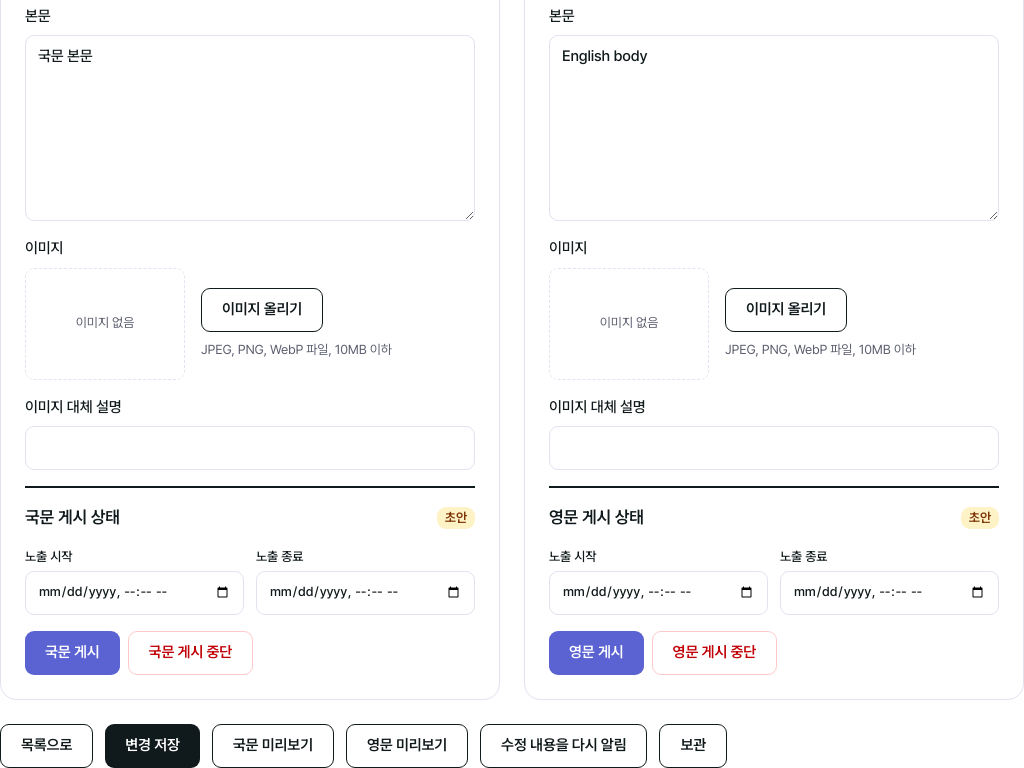
it: PopupNoticeForm 저장 및 게시 검증 › 미리보기는 서버가 그린 본문 HTML을 공개 팝업에 넣는다
(page scrolled)
Click the button "국문 미리보기" at (273, 746), box [212, 724, 334, 767]
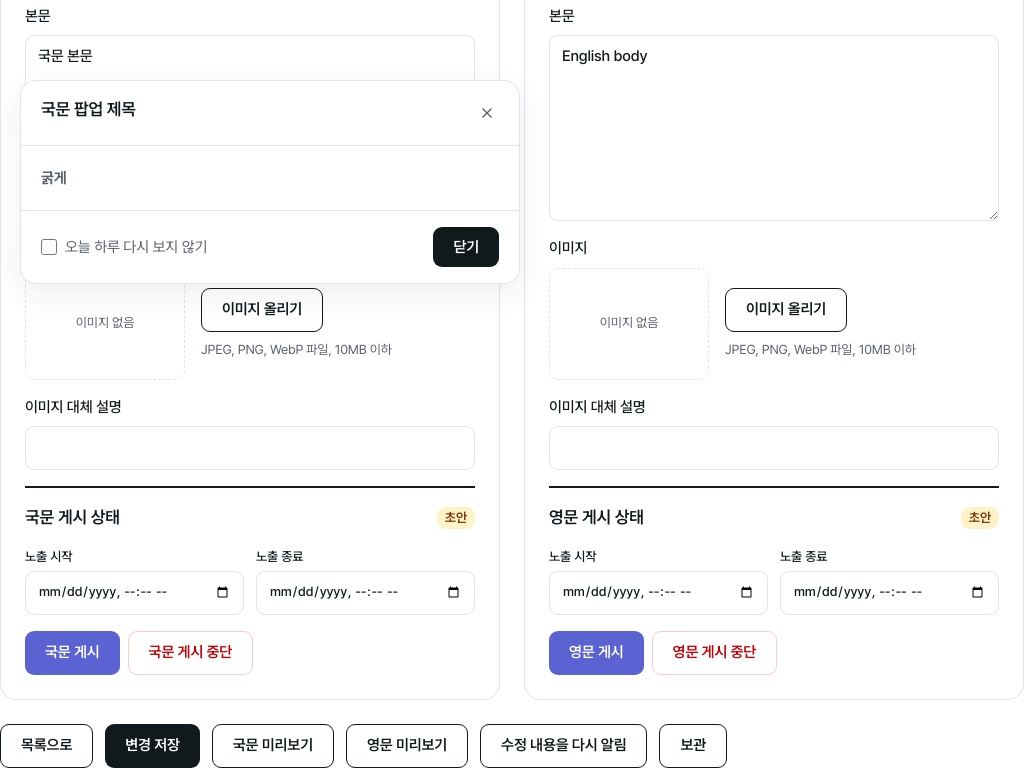
Expected: the text "굵게" is shown, [41, 169, 67, 187]
